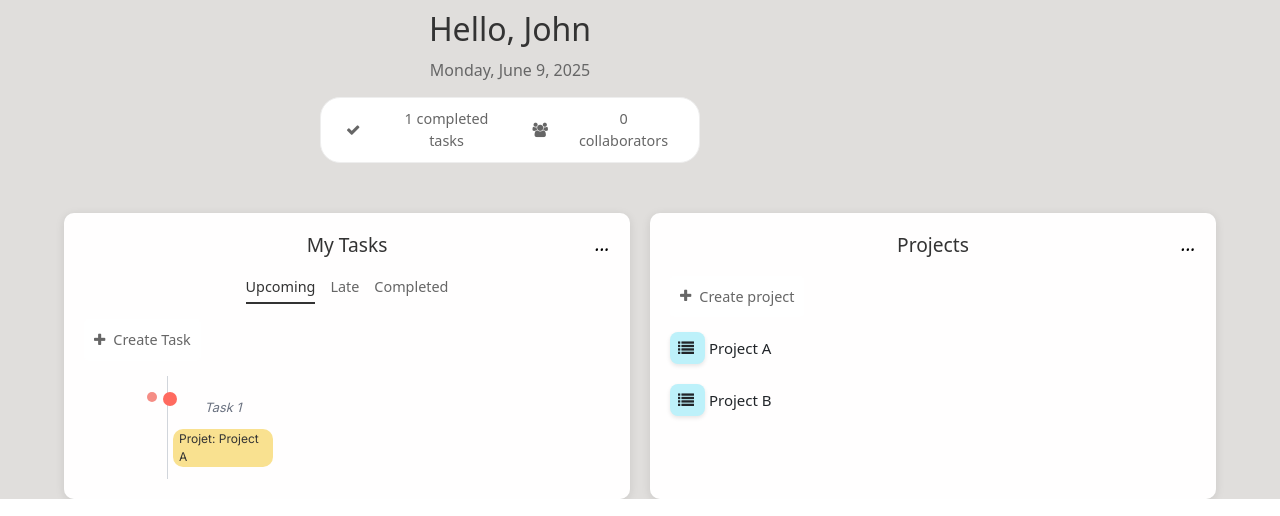
it: Home Component › switches tabs and filters tasks correctly
The image size is (1280, 516).
expect the text "Task 1" is shown: met, box [204, 400, 242, 415]
expect the text "Task 2" is not shown: met
# Switch to Late tab
What coordinates should you click on to do the following:
click the text "Late"
I would click on:
 (345, 290)
Its box is [330, 276, 359, 304].
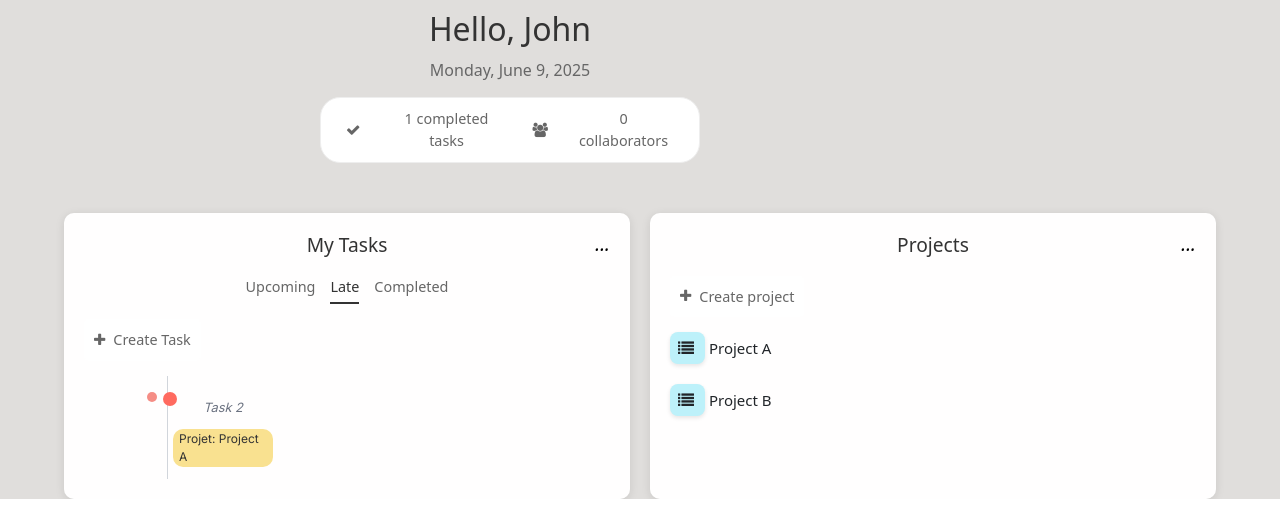
expect the text "Task 3" is not shown: met
expect the text "Task 2" is shown: met, box [203, 400, 243, 415]
expect the text "Task 1" is gone: met
# Switch to Completed tab
What coordinates should you click on to do the following:
click the text "Completed"
I would click on:
 (411, 290)
Its box is [374, 276, 448, 304].
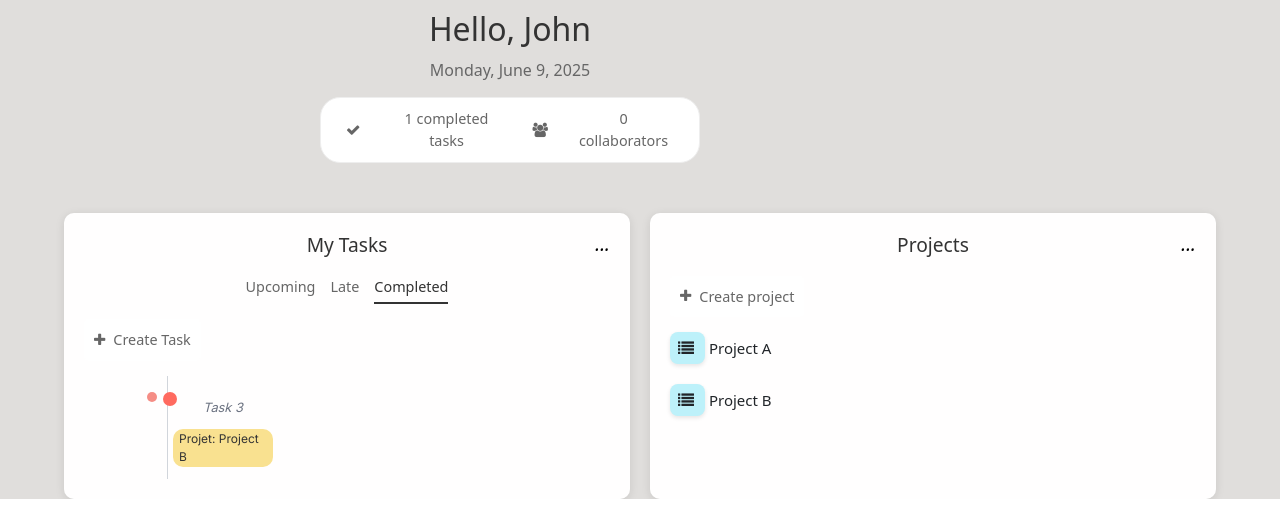
expect the text "Task 1" is not shown: met
expect the text "Task 3" is shown: met, box [203, 400, 243, 415]
expect the text "Task 2" is gone: met
